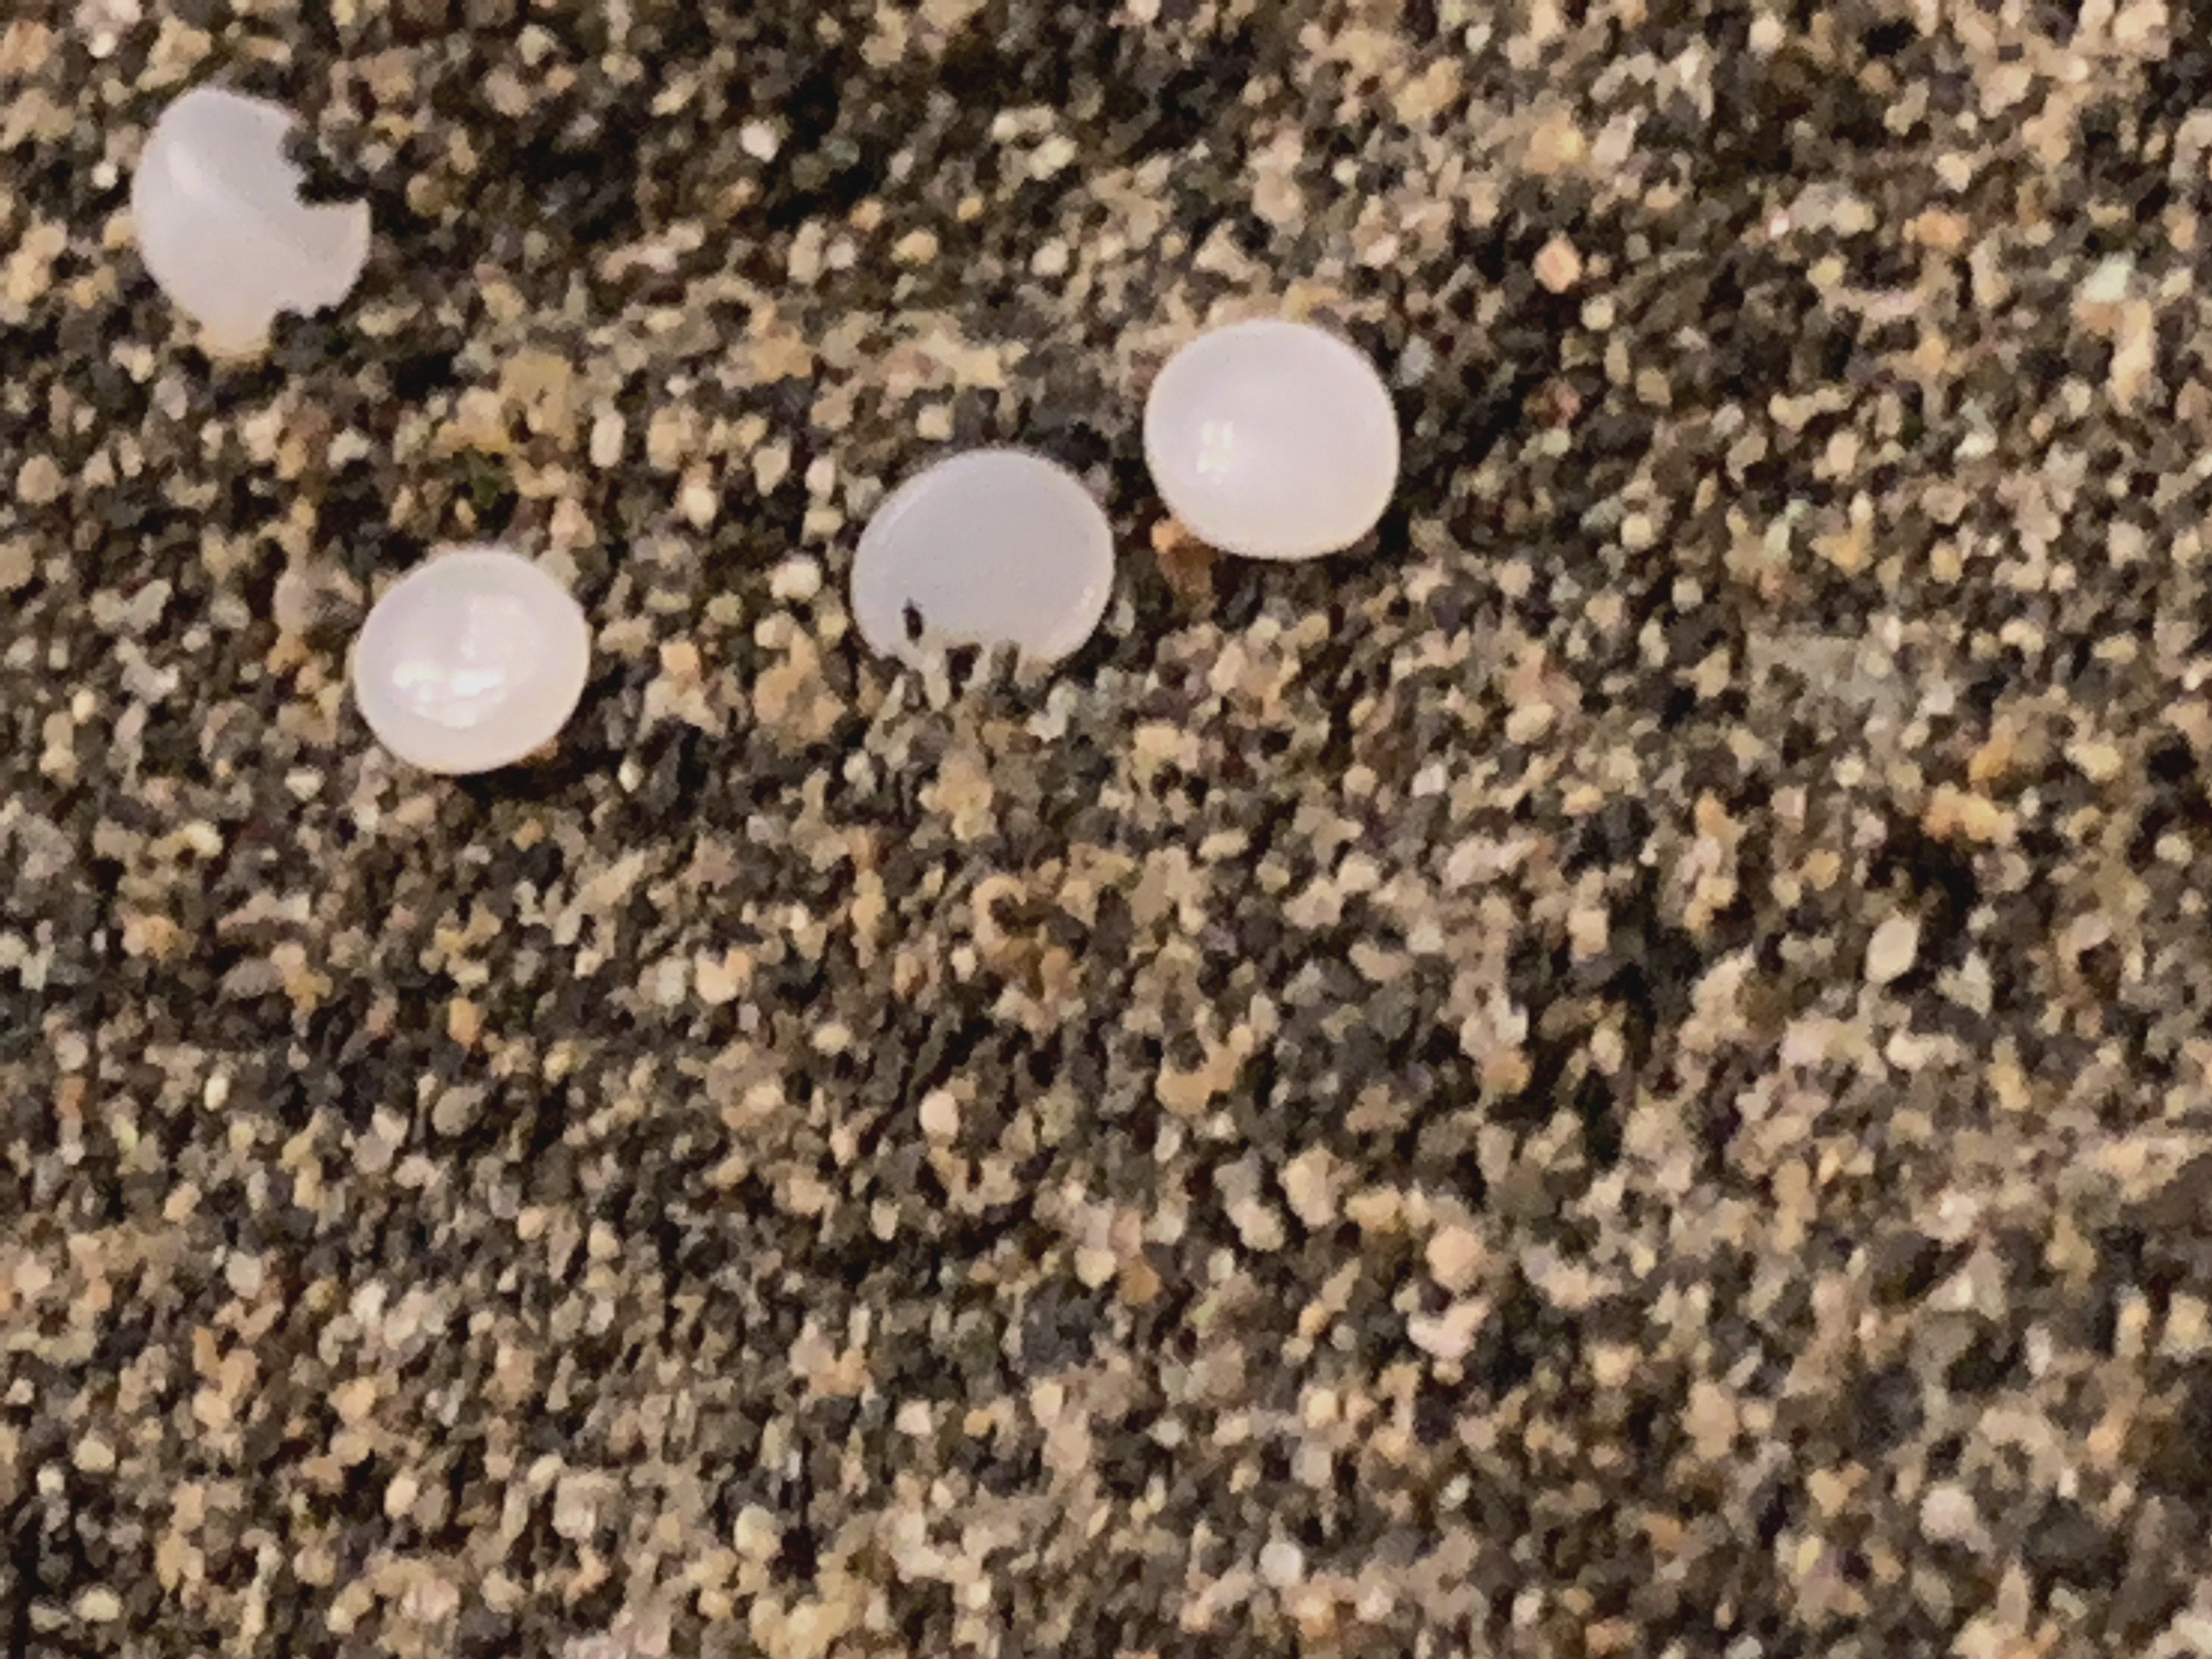Nurdle: (1122, 321, 1421, 568), (108, 80, 383, 335), (834, 453, 1122, 690), (326, 544, 601, 770)
